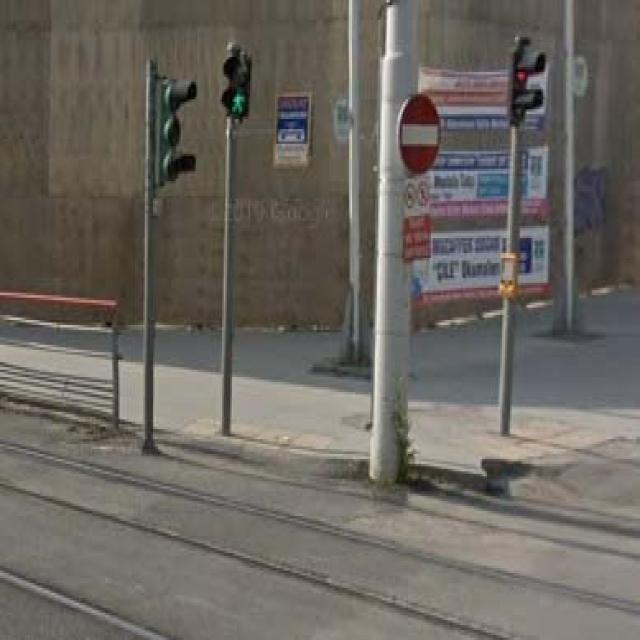girisyok: (398, 94, 441, 174)
